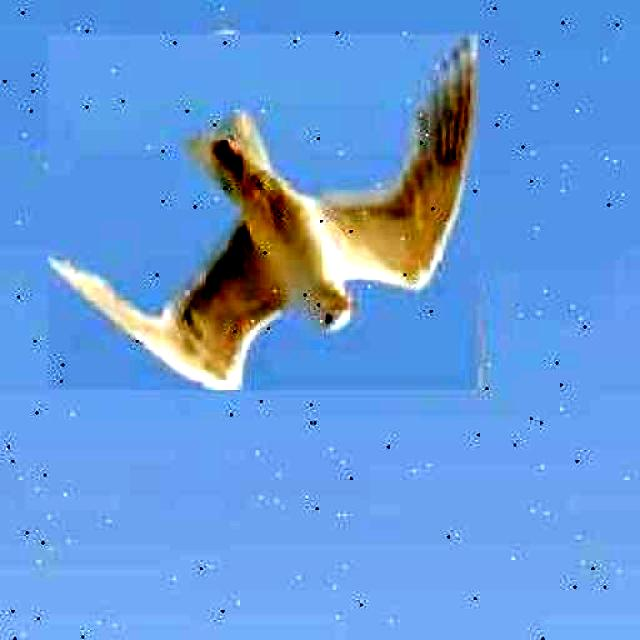airplane: (49, 34, 479, 390)
